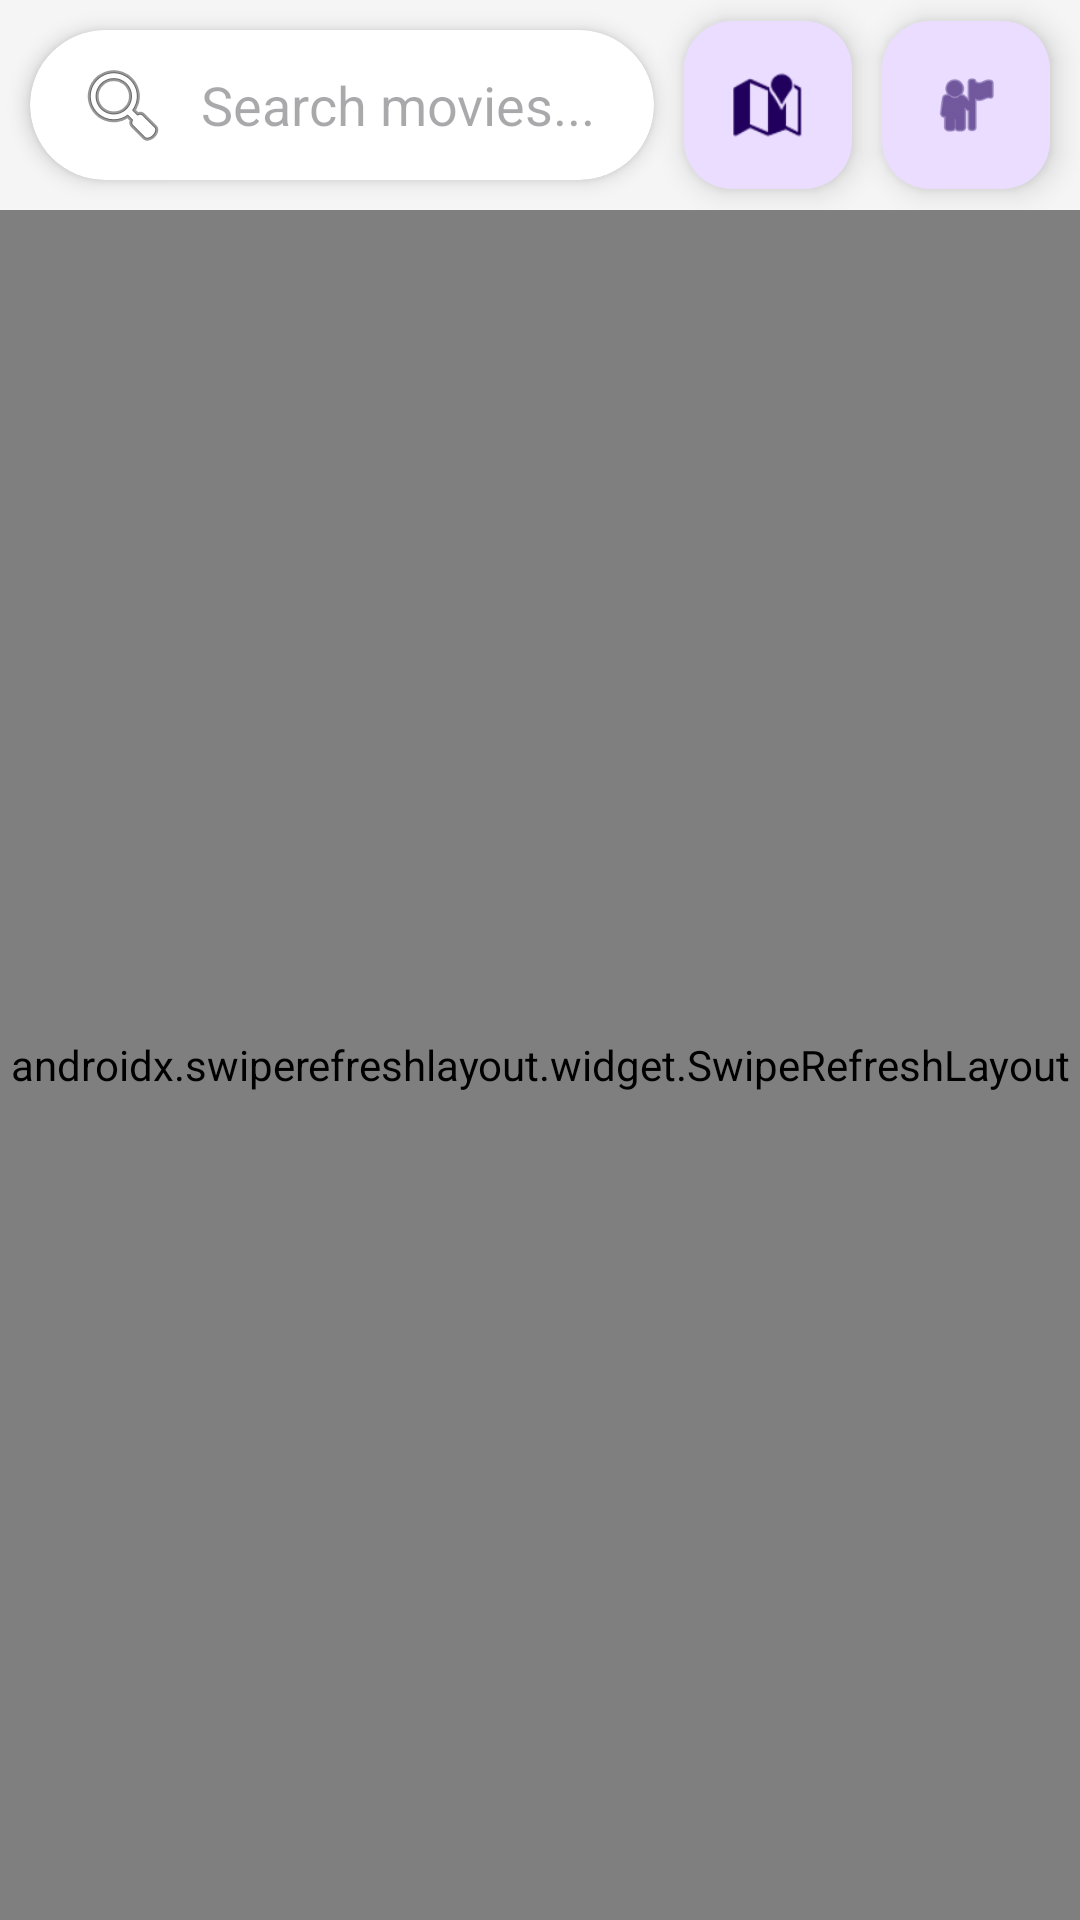

Screen size 1080px×1920px. Icon name, then its center in pixels as (x,y):
Find Cinema: (768,105)
Profile: (966,105)
